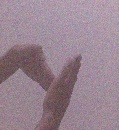hand: (42, 52, 83, 124), (12, 43, 56, 94)
